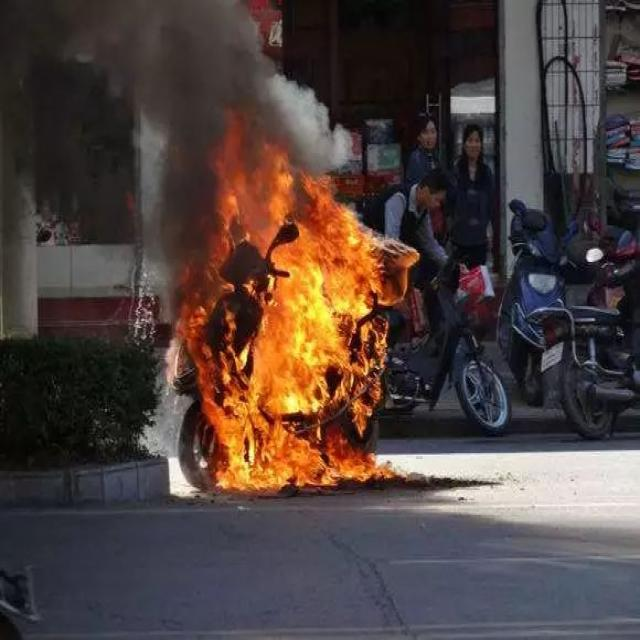Fire: (180, 125, 408, 492)
Smoke: (62, 0, 321, 129)
